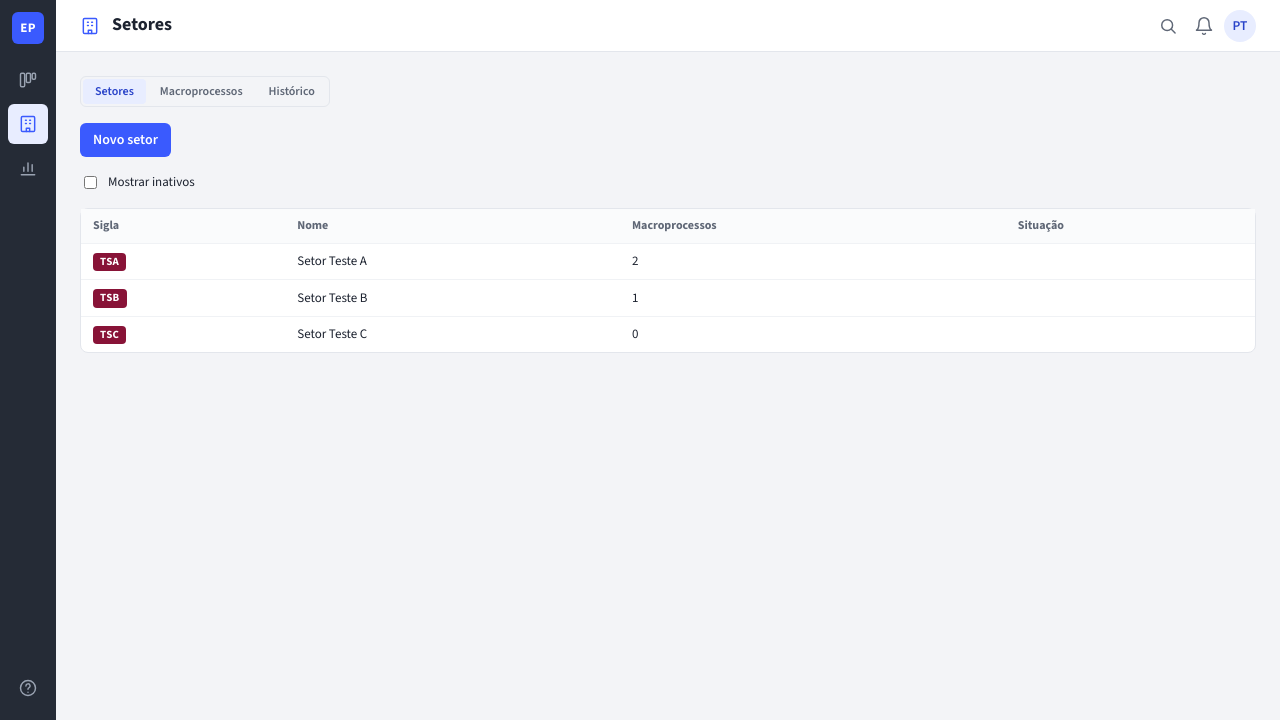
desativar um setor não muda a contagem dele (os vínculos continuam)
The width and height of the screenshot is (1280, 720).
Click the checkbox labelled "Mostrar inativos".
click(90, 183)  # box x1=84 y1=176 x2=97 y2=189
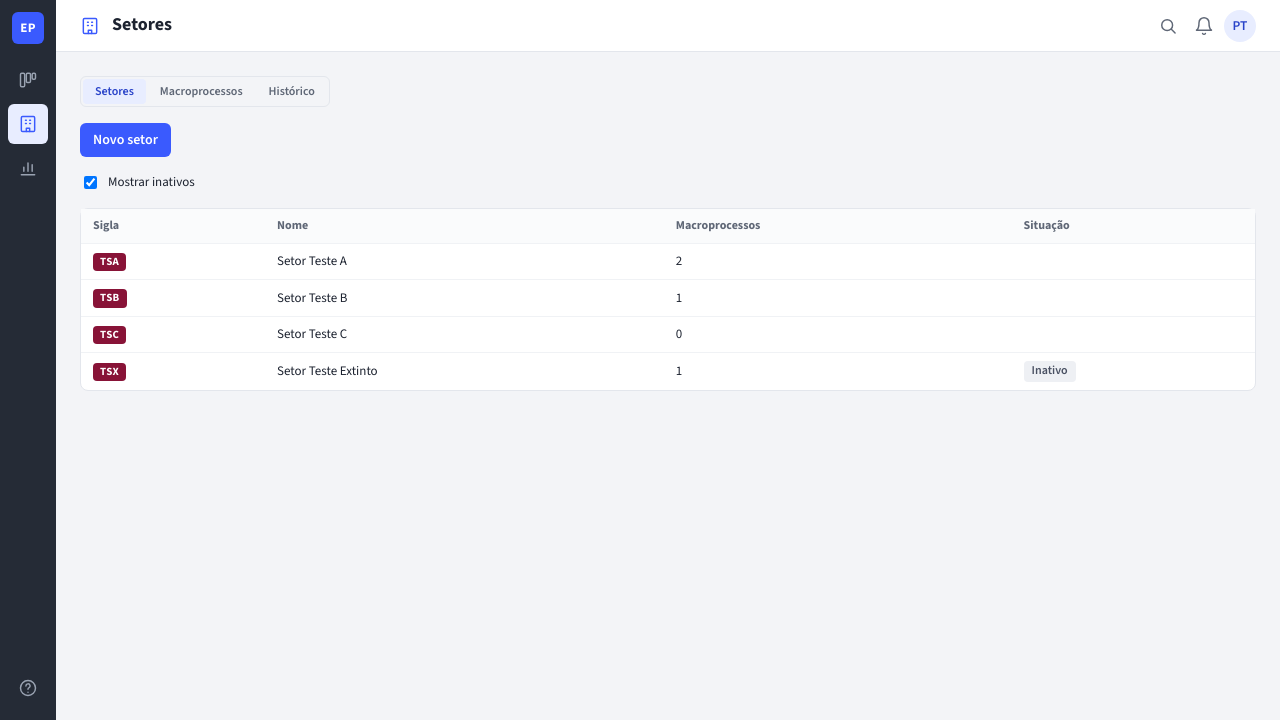
Expected: the button "TSX" is shown, x1=93 y1=362 x2=126 y2=381
